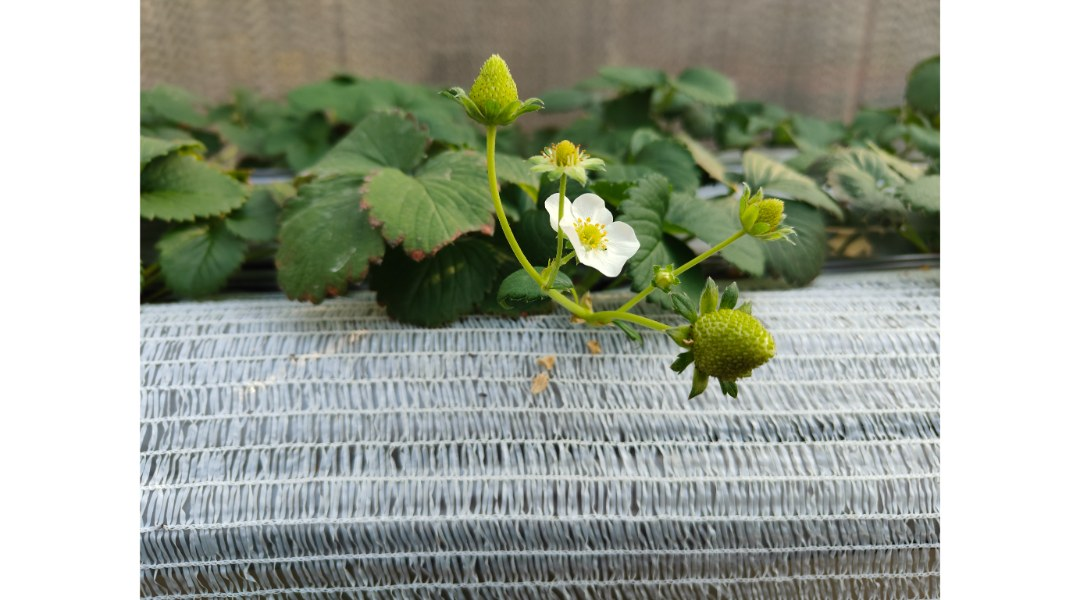berry: (682, 281, 776, 404), (451, 47, 547, 144), (739, 173, 800, 257)
flower: (542, 188, 643, 286)
strain: (484, 169, 525, 266), (689, 232, 739, 270), (618, 312, 664, 335)
